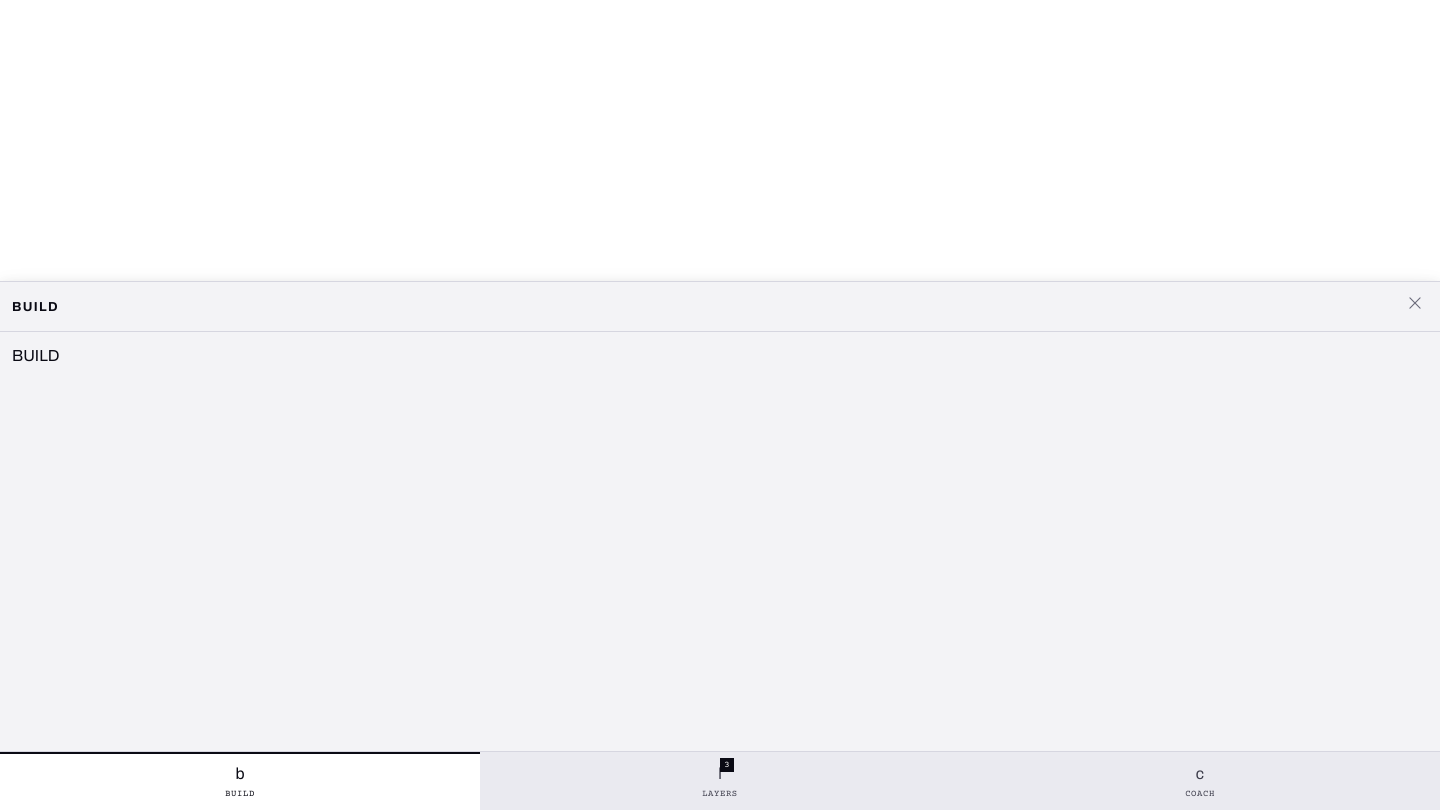
Test: MobileControlSheet › tapping the active tab collapses it again
Expected: the text "BUILD" is shown, [12,347,60,364]
Click the button with test id "rb2-mobile-tab-build" at (240, 781), box [0,752,480,809]
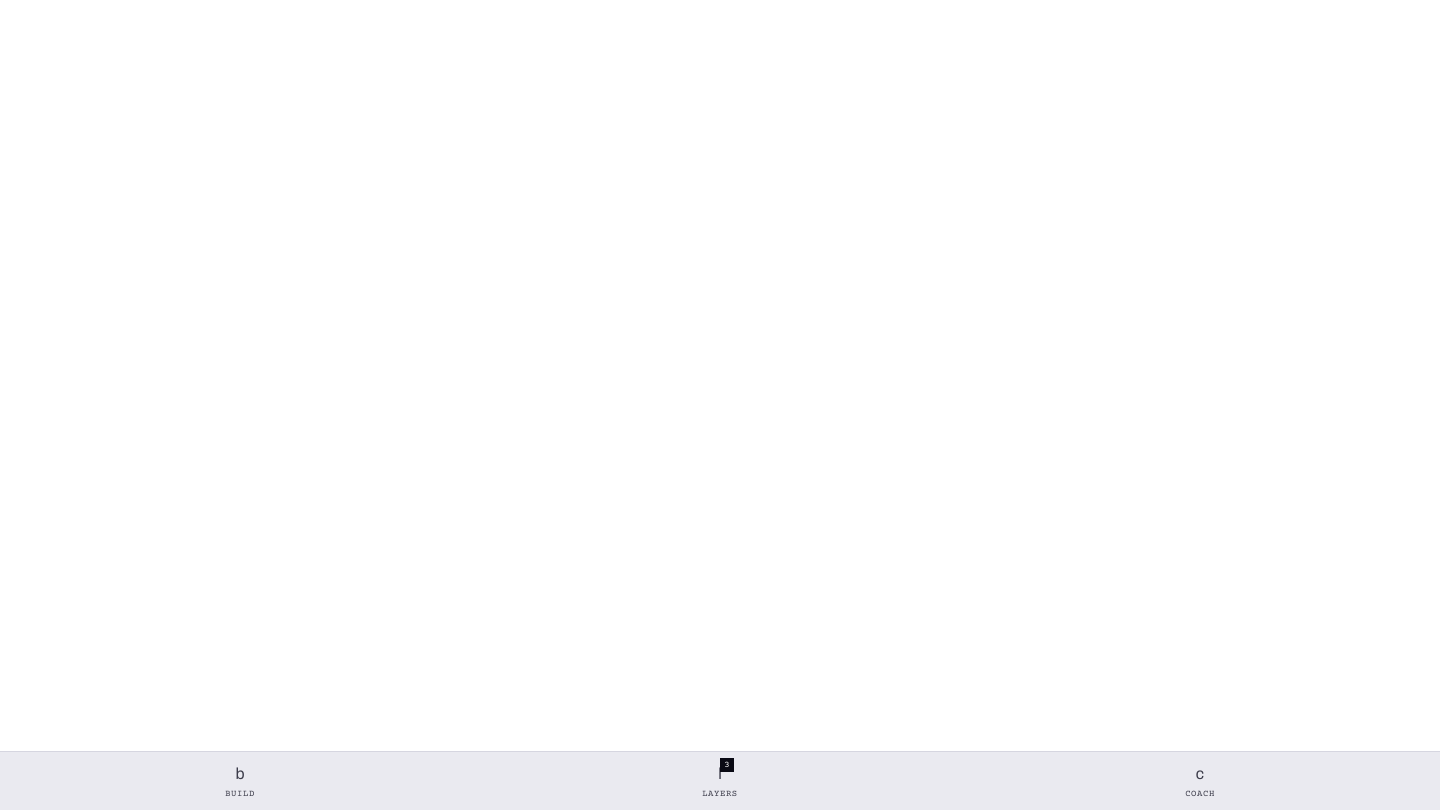
Now the text with test id "content-build" is gone
